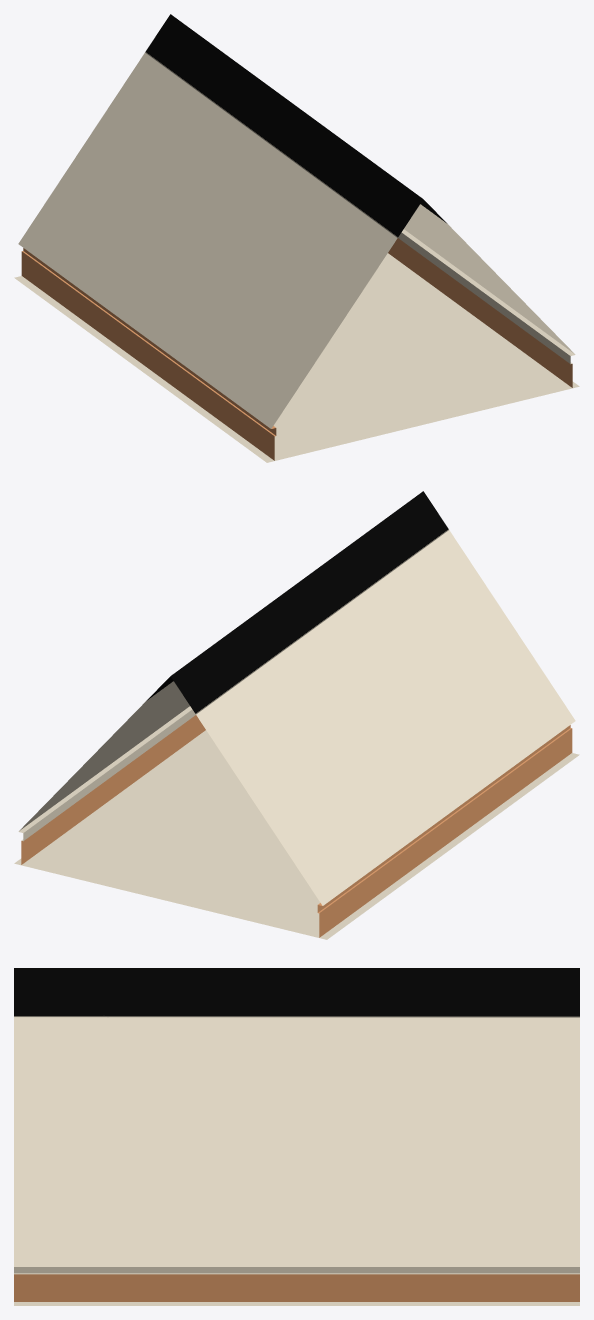
Rendered from Map_Lobby_side.fbx.
3 views of the same model, one above another, from view 1: azimuth 30°, elevation 25°; view 2: azimuth 150°, elevation 25°; view 3: azimuth 270°, elevation 25° (orthographic). The views are drawn at different scales.
Parts seen in each view (by area): view 1: Wall_side; view 2: Wall_side; view 3: Wall_side.
Part boxes in pixels (left/top/right/bottom): Wall_side: left=14, top=14, right=579, bottom=462; Wall_side: left=14, top=491, right=579, bottom=939; Wall_side: left=14, top=968, right=579, bottom=1305.
Bounding box in the file's own units: 394 × 271 × 551.
Materials: 1 (1 with a texture image).
